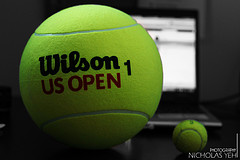tennis ball: (17, 3, 164, 149), (171, 118, 208, 155)
